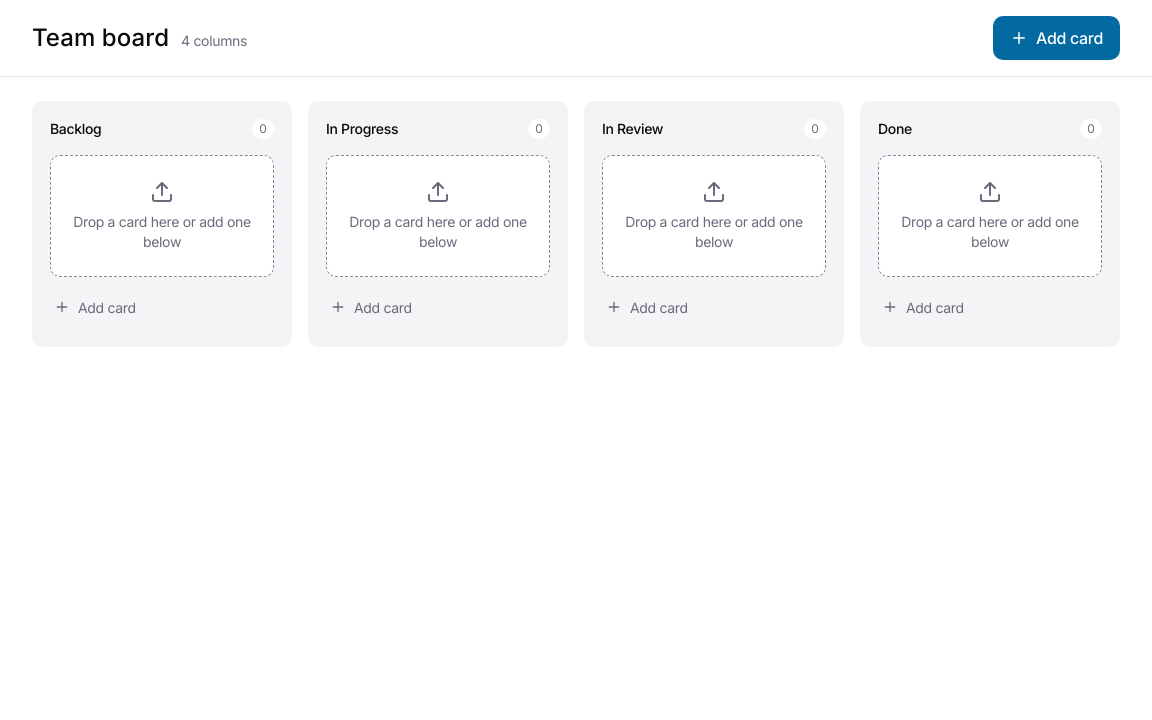
Test: Board: creating cards › adds a new card to Backlog from the toolbar button
Click the button "Add card" in the row of "columns".
click(1056, 38)  # box [993,16,1120,60]
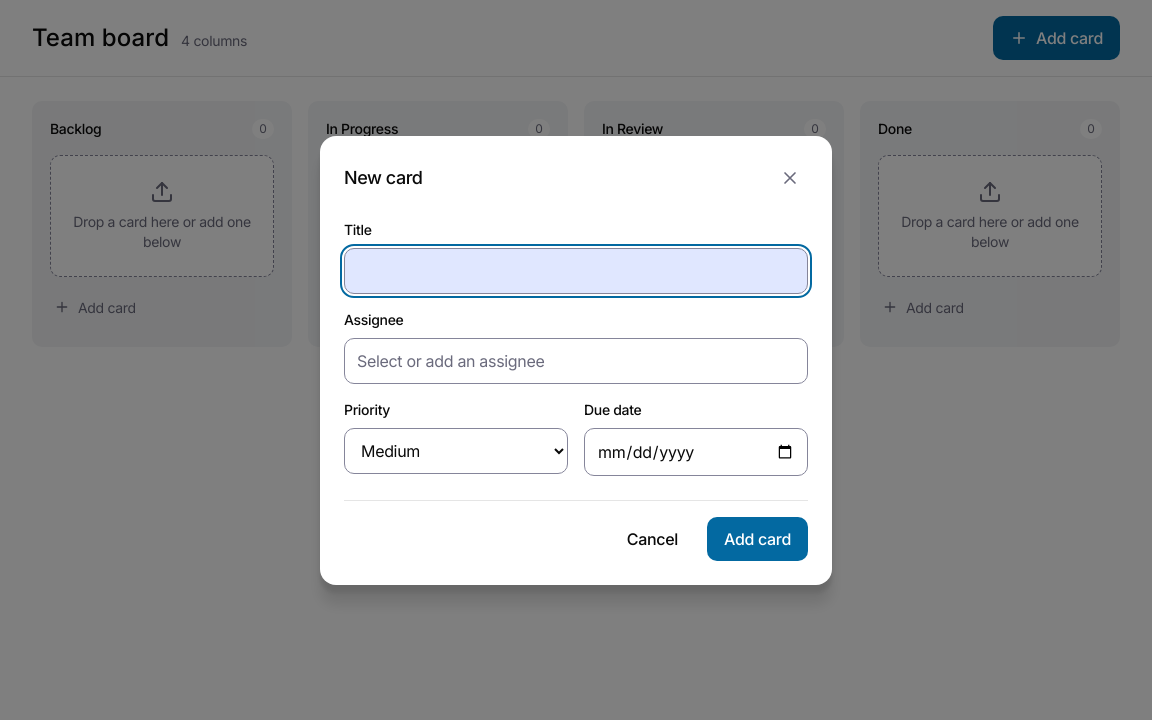
Type "  Ship v1  " into the field labelled "Title".
click(576, 270); type("  Ship v1  ")  # box [344,248,808,294]
Type "Sam" into the dropdown labelled "Assignee".
click(576, 360); type("Sam")  # box [344,338,808,384]
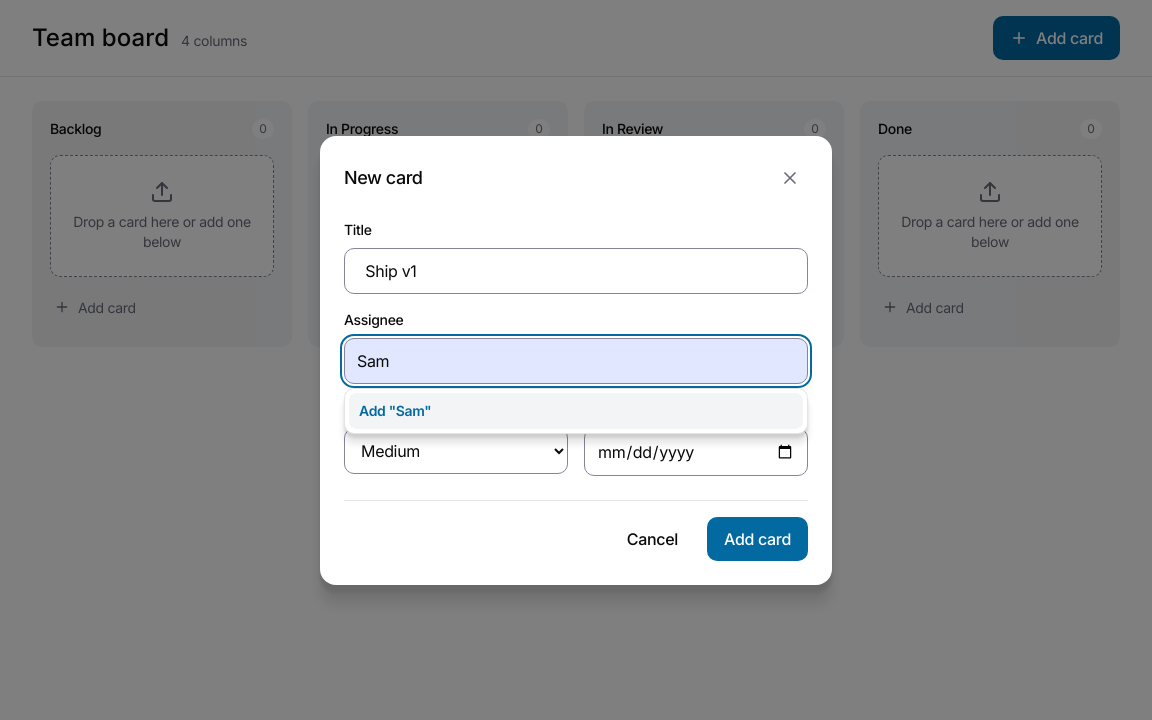
Click the option "Add \"Sam\"".
click(395, 410)  # box [349,392,803,428]
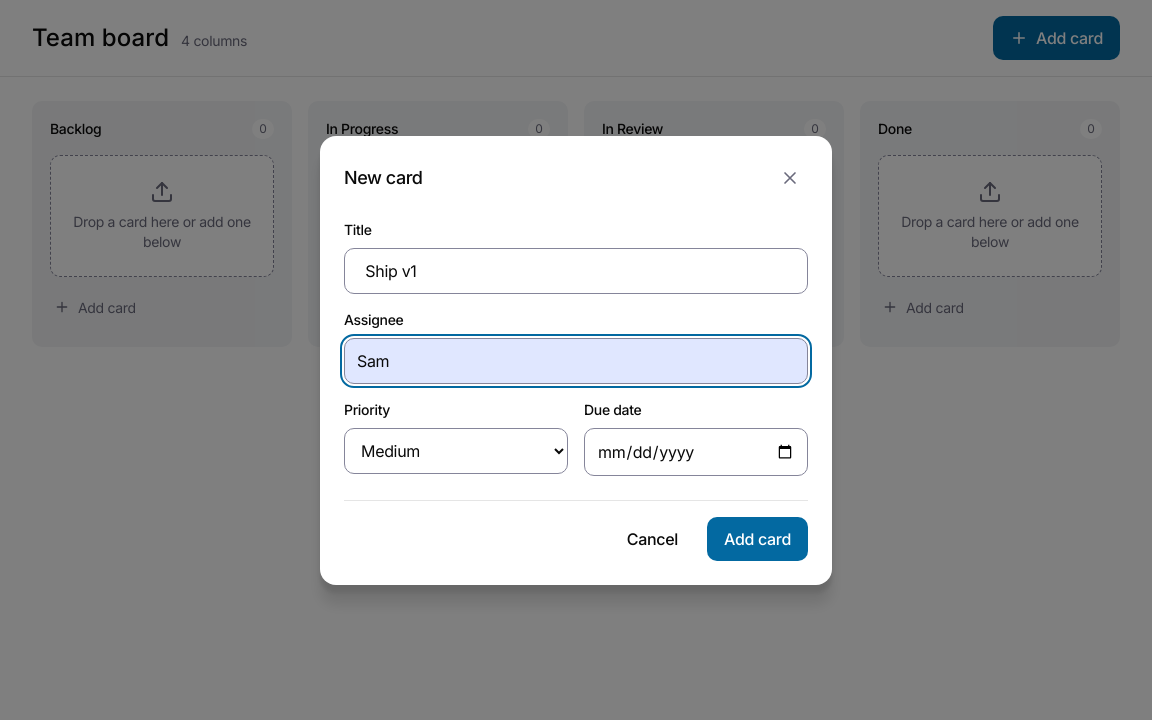
Select "High" in the dropdown labelled "Priority" at (456, 450), box [344,428,568,474]
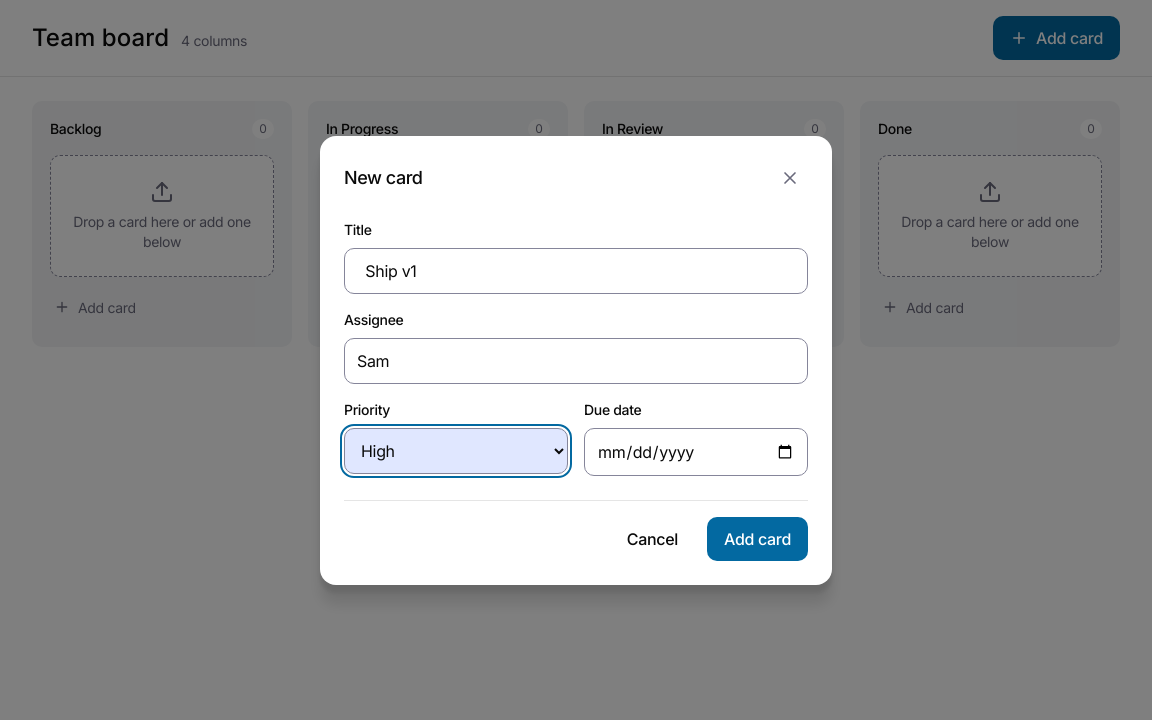
Type "2099-12-31" into the date field labelled "Due date".
click(696, 452); type("2099-12-31")  # box [584,428,808,476]
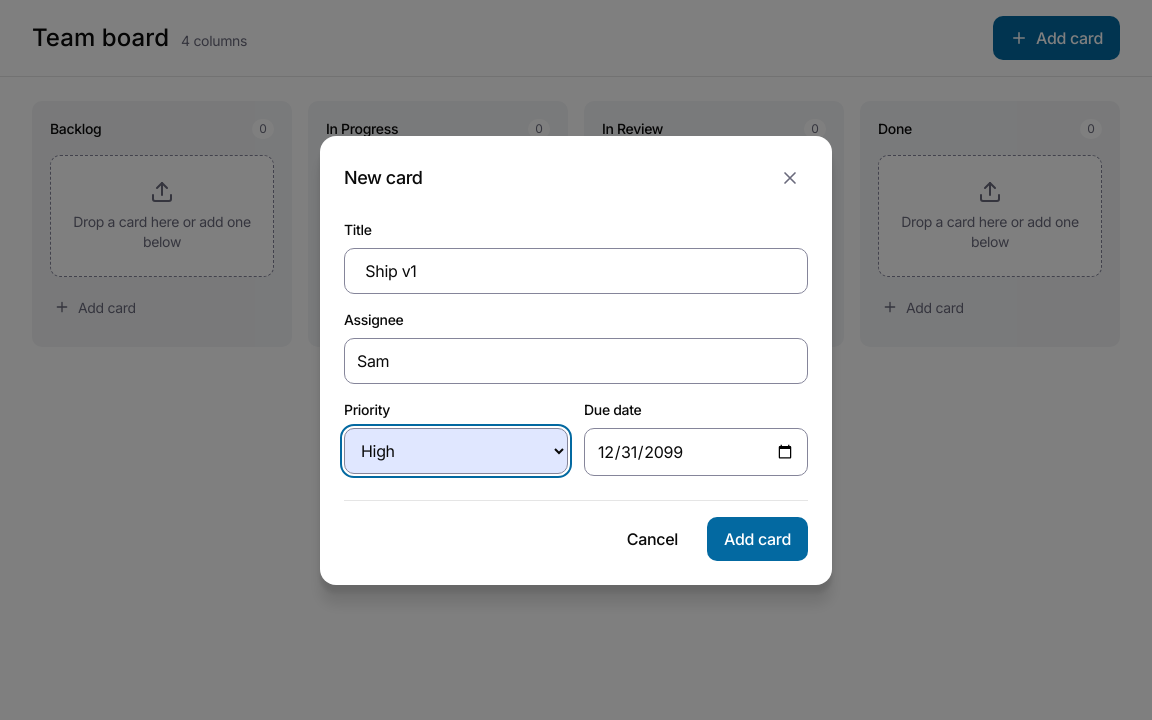
Click the button "Add card".
click(758, 538)  # box [707,516,808,560]
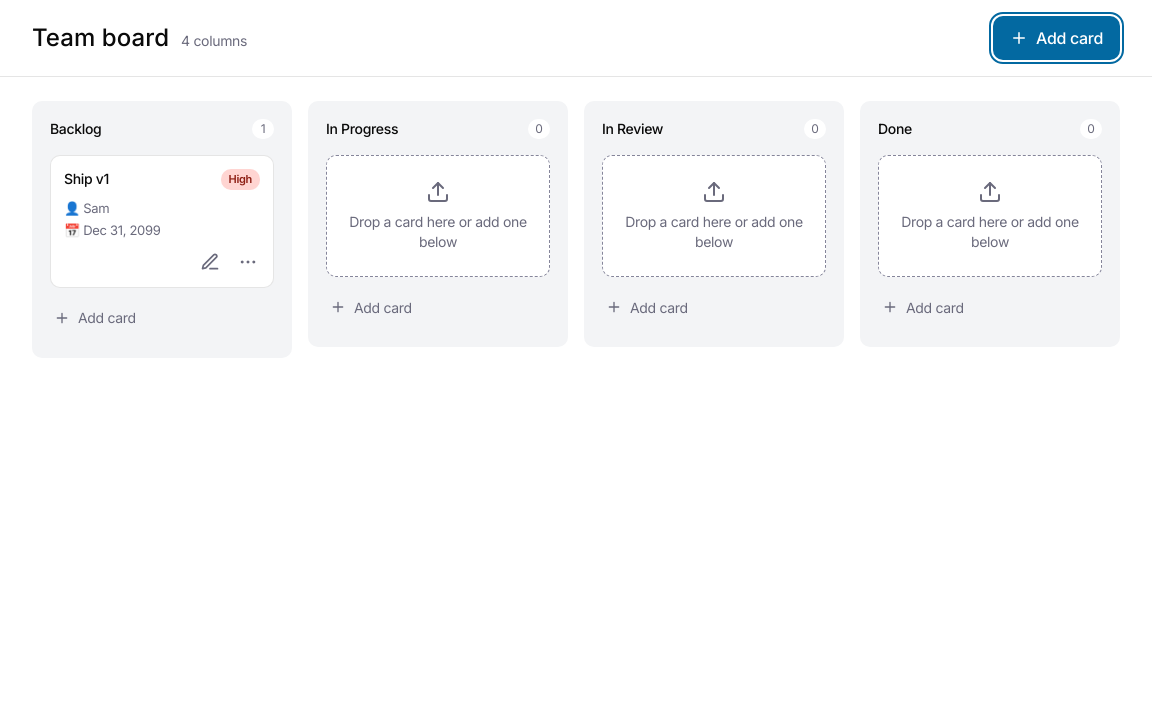
Result: the heading "Ship v1" is shown at [64,169,109,189]
